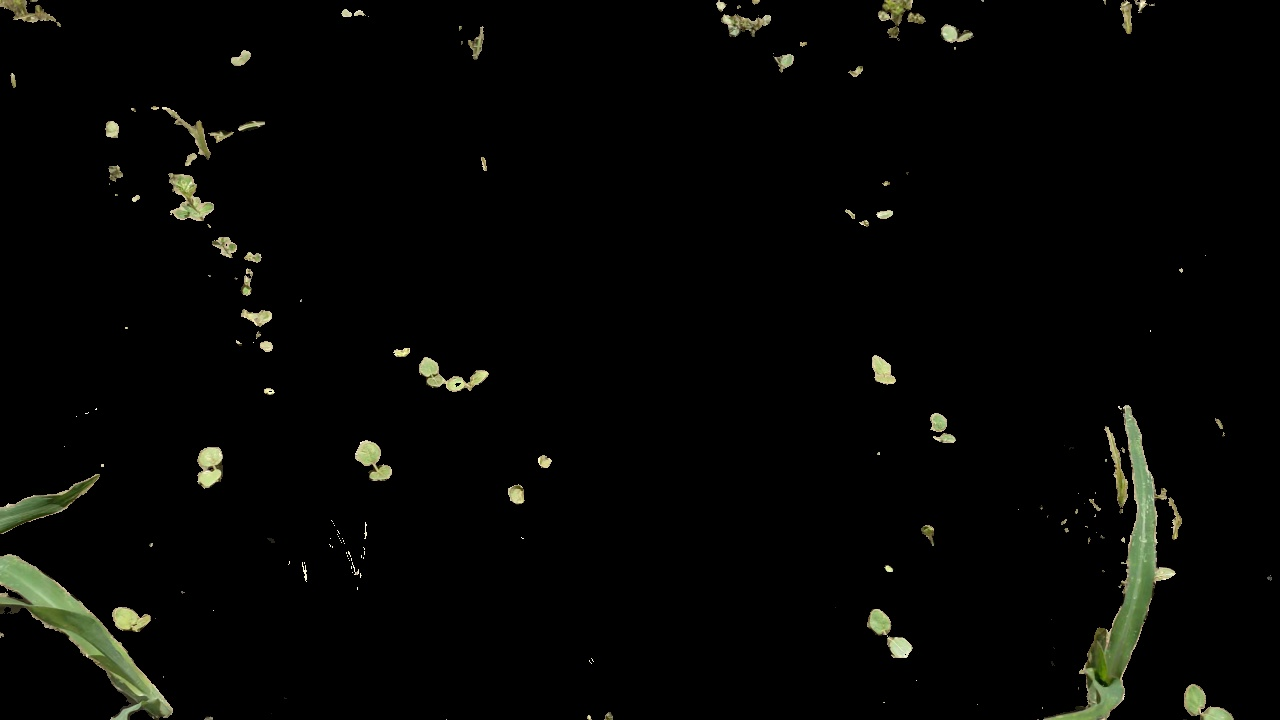crop: (1040, 361, 1171, 720), (1, 458, 163, 720)
weed: (858, 598, 917, 666), (164, 164, 225, 224), (1176, 679, 1248, 720), (352, 432, 399, 493), (418, 356, 489, 394), (865, 1, 926, 39), (190, 436, 231, 491), (721, 11, 783, 43), (926, 402, 960, 455), (110, 604, 157, 635), (868, 350, 904, 390), (233, 306, 288, 331), (203, 238, 244, 259)
